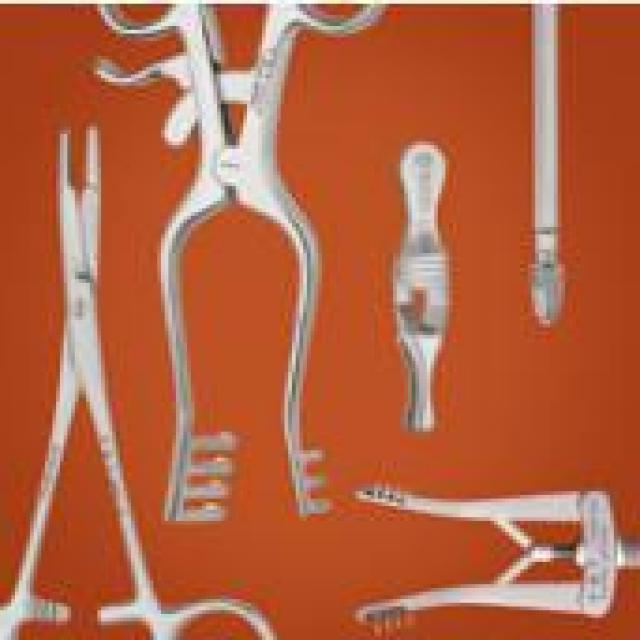Bulldog: (386, 134, 456, 443)
Weitlaner: (86, 0, 386, 532)
